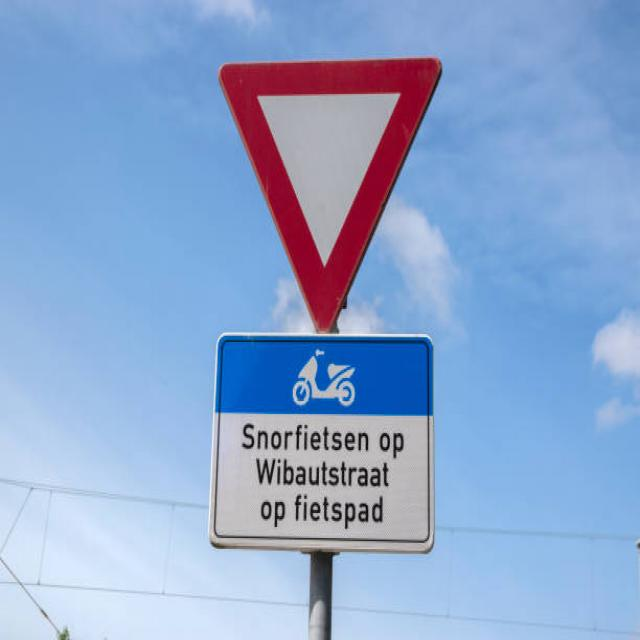give_way: (215, 52, 451, 339)
